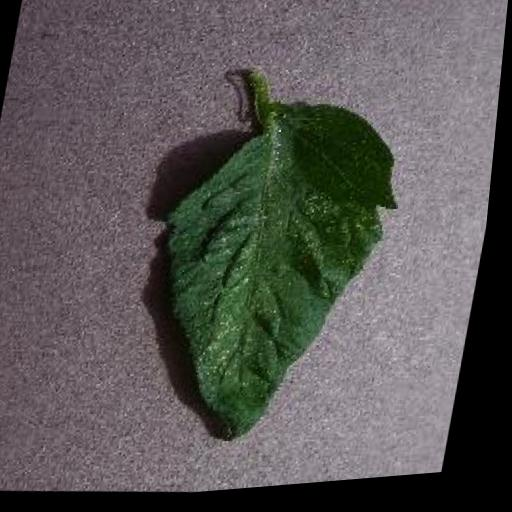Spider Mites: (138, 85, 424, 458)
